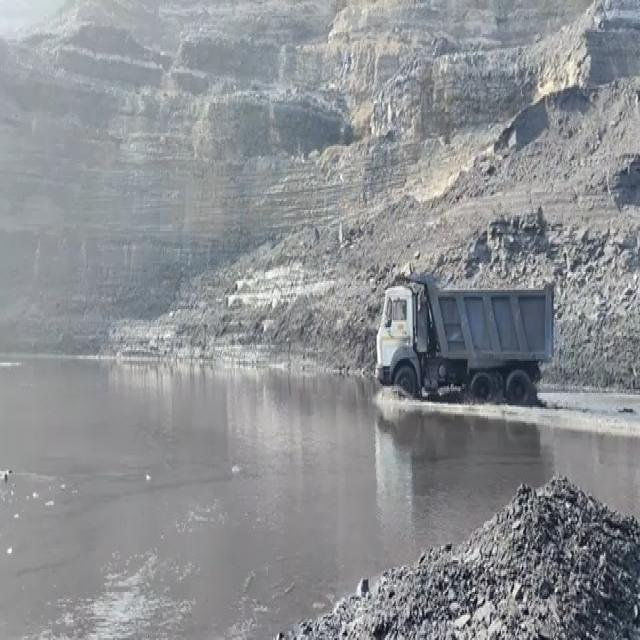dump_truck: (370, 268, 554, 406)
